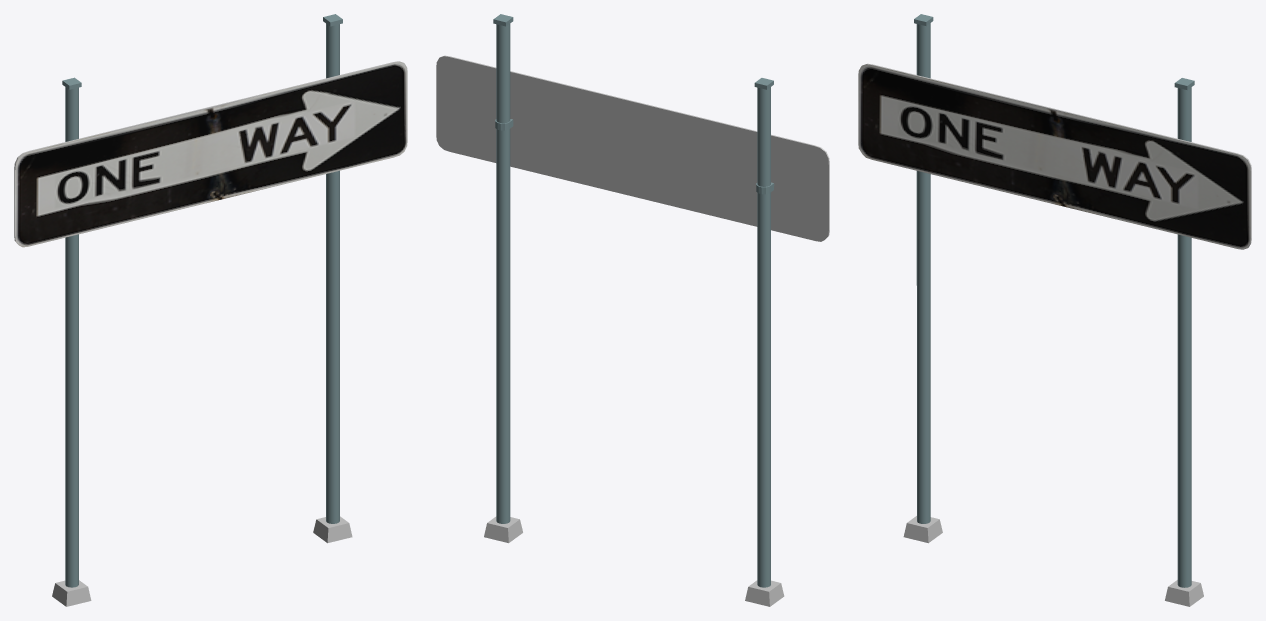
File: Oneway-Right.fbx
3 views of the same model, side by side, from view 1: azimuth 30°, elevation 25°; view 2: azimuth 150°, elevation 25°; view 3: azimuth 330°, elevation 25° (orthographic).
Parts seen in each view (by area): view 1: oneway; view 2: oneway; view 3: oneway.
Part boxes in pixels (bbox=[...]): oneway: bbox=[14, 14, 407, 606]; oneway: bbox=[436, 14, 829, 606]; oneway: bbox=[858, 14, 1251, 606].
Size of the model in its own units: 2.24 by 2.81 by 0.1425.
